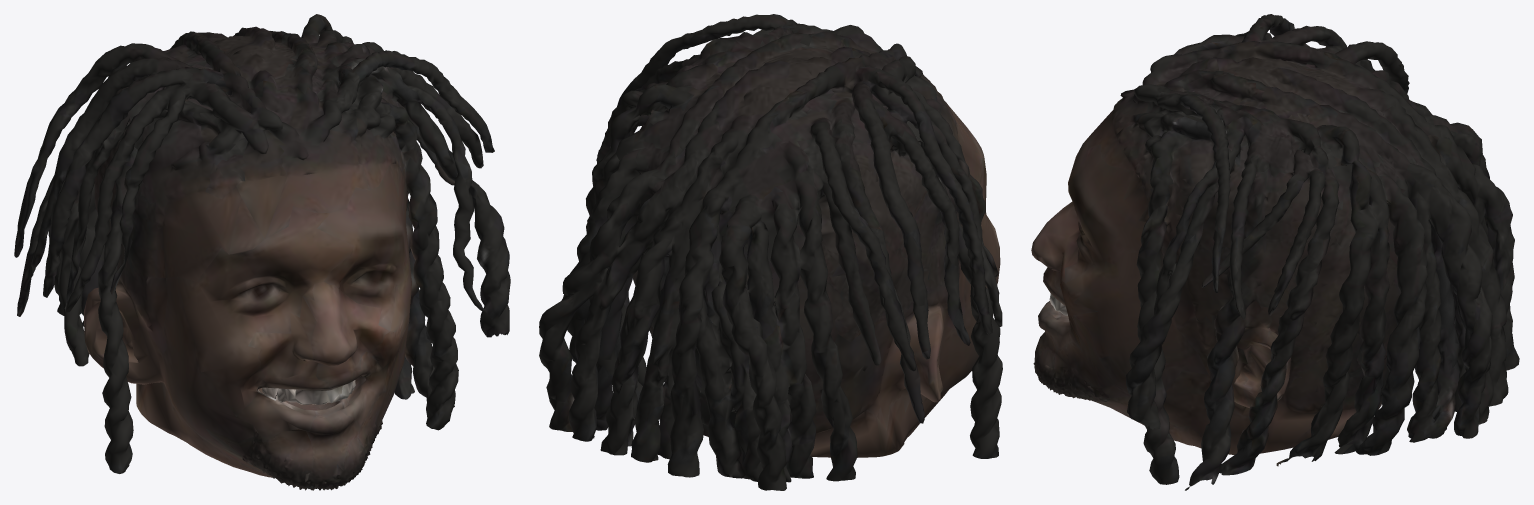
The model's file is head_erick.glb.
3 renders of one model, left to right at view 1: azimuth 30°, elevation 25°; view 2: azimuth 150°, elevation 25°; view 3: azimuth 270°, elevation 25°, orthographic. The views are drawn at different scales.
Visible parts, largest first — view 1: Mesh_0; view 2: Mesh_0; view 3: Mesh_0.
Part boxes in pixels (x1,y1,x2,y2): Mesh_0: (14, 14, 510, 490); Mesh_0: (539, 14, 1002, 490); Mesh_0: (1031, 14, 1519, 490).
Size of the model in its own units: 0.6874 by 0.6025 by 0.7222.
1 material, 1 textured.
